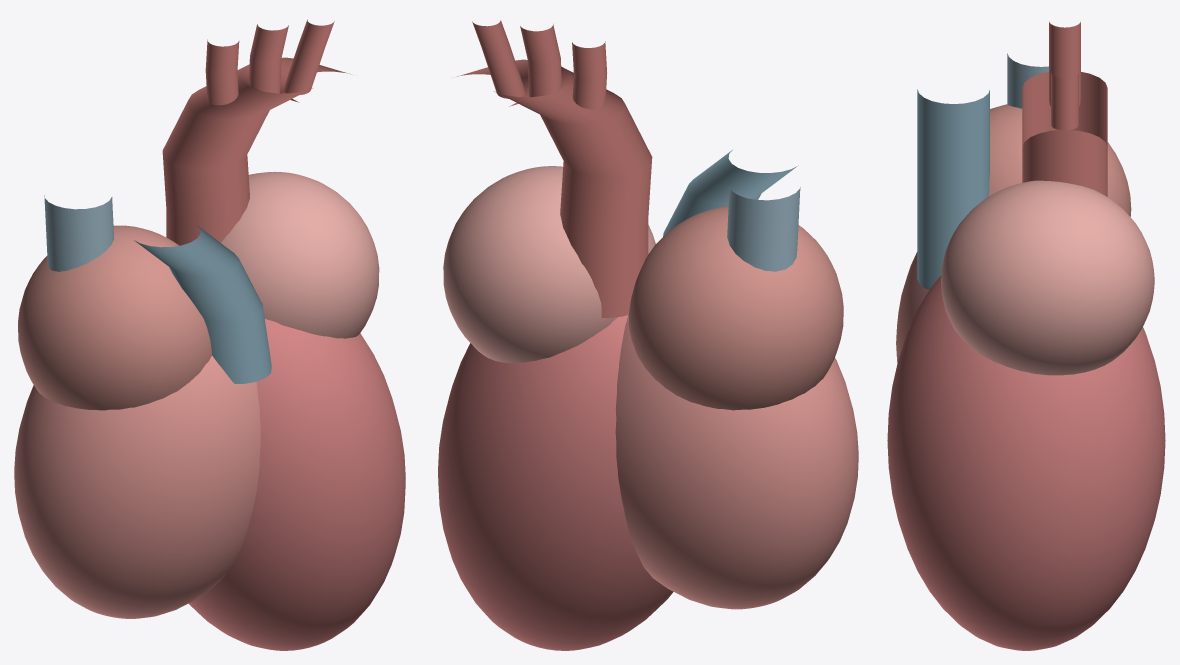
Rendered from heart.glb.
3 views of the same model, side by side, from view 1: azimuth 30°, elevation 25°; view 2: azimuth 150°, elevation 25°; view 3: azimuth 270°, elevation 25° (orthographic). The views are drawn at different scales.
Visible parts, largest first — view 1: Right_ventricle, Left_ventricle, Right_atrium, Left_atrium, Aorta, Pulmonary_artery, Vena_cava, Aortic_branch_2, Aortic_branch_3, Aortic_branch_1; view 2: Left_ventricle, Right_ventricle, Right_atrium, Left_atrium, Aorta, Vena_cava, Pulmonary_artery, Aortic_branch_2, Aortic_branch_3, Aortic_branch_1; view 3: Left_ventricle, Left_atrium, Pulmonary_artery, Aorta, Right_atrium, Aortic_branch_3, Right_ventricle, Aortic_branch_2, Vena_cava, Aortic_branch_1.
Part boxes in pixels (<box>): Right_ventricle: <box>14,356,260,618</box>; Left_ventricle: <box>188,318,405,650</box>; Right_atrium: <box>18,225,211,410</box>; Left_atrium: <box>221,171,379,338</box>; Aorta: <box>162,57,350,245</box>; Pulmonary_artery: <box>134,225,271,383</box>; Vena_cava: <box>44,195,114,271</box>; Aortic_branch_2: <box>248,24,288,93</box>; Aortic_branch_3: <box>283,19,334,94</box>; Aortic_branch_1: <box>205,39,239,105</box>; Left_ventricle: <box>438,315,673,650</box>; Right_ventricle: <box>615,315,858,609</box>; Right_atrium: <box>628,206,843,410</box>; Left_atrium: <box>443,166,655,363</box>; Aorta: <box>456,59,652,318</box>; Vena_cava: <box>727,187,800,271</box>; Pulmonary_artery: <box>663,150,798,236</box>; Aortic_branch_2: <box>520,24,561,97</box>; Aortic_branch_3: <box>472,20,525,98</box>; Aortic_branch_1: <box>572,41,606,109</box>; Left_ventricle: <box>887,275,1165,650</box>; Left_atrium: <box>941,180,1154,375</box>; Pulmonary_artery: <box>917,89,989,289</box>; Aorta: <box>1022,72,1107,196</box>; Right_atrium: <box>989,104,1131,216</box>; Aortic_branch_3: <box>1051,73,1078,130</box>; Right_ventricle: <box>896,252,928,363</box>; Aortic_branch_2: <box>1049,42,1080,106</box>; Vena_cava: <box>1007,53,1048,108</box>; Aortic_branch_1: <box>1049,21,1080,47</box>.
Bounding box in the file's own units: 1.98 × 3.12 × 1.3.
